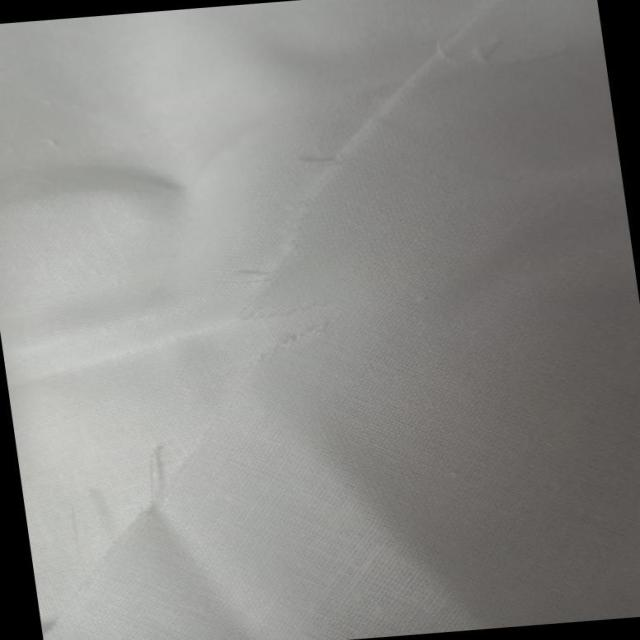cut: (221, 295, 351, 355)
